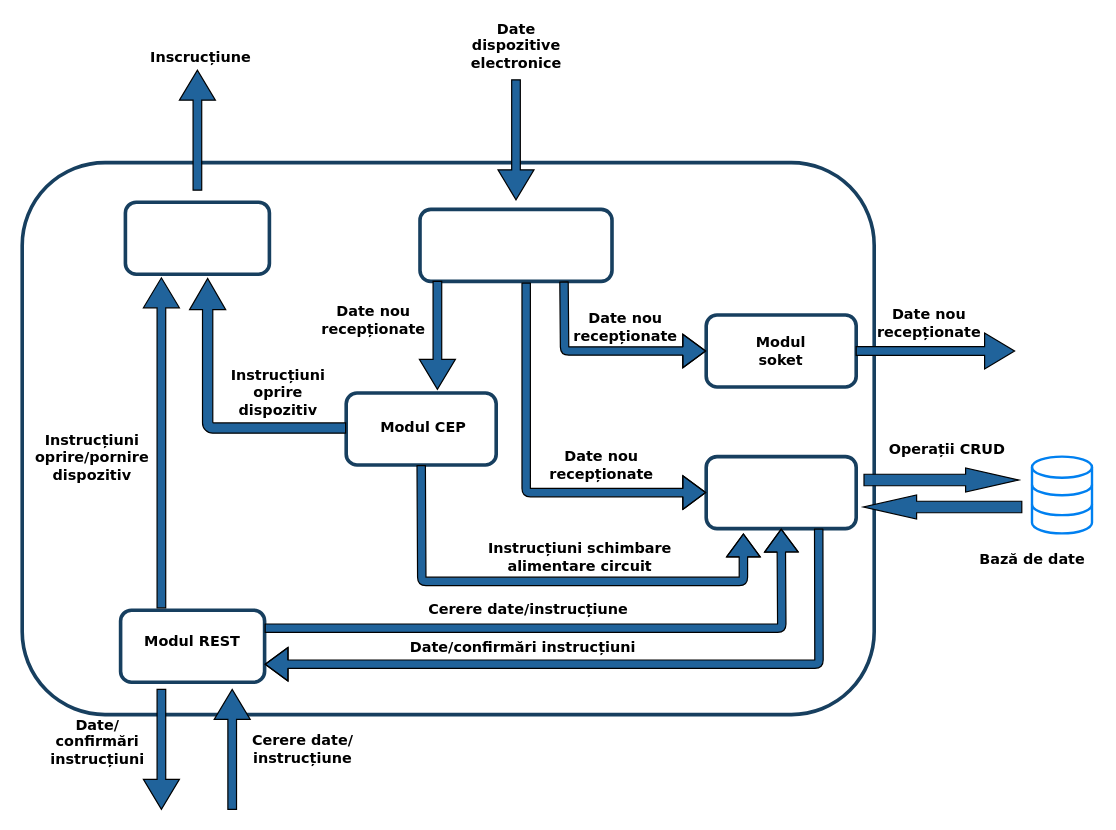
The diagram is 1116 pixels wide and 830 high, and some of its shapes have lost their labels. Here are the shapes that lost their labels. From the top down, the centre of each, then its label:
At point (197, 237): "Modul expediere instrucțiuni".
At point (515, 245): "Modul recepționare și prelucrare date".
At point (780, 492): "Modul baze de date".
